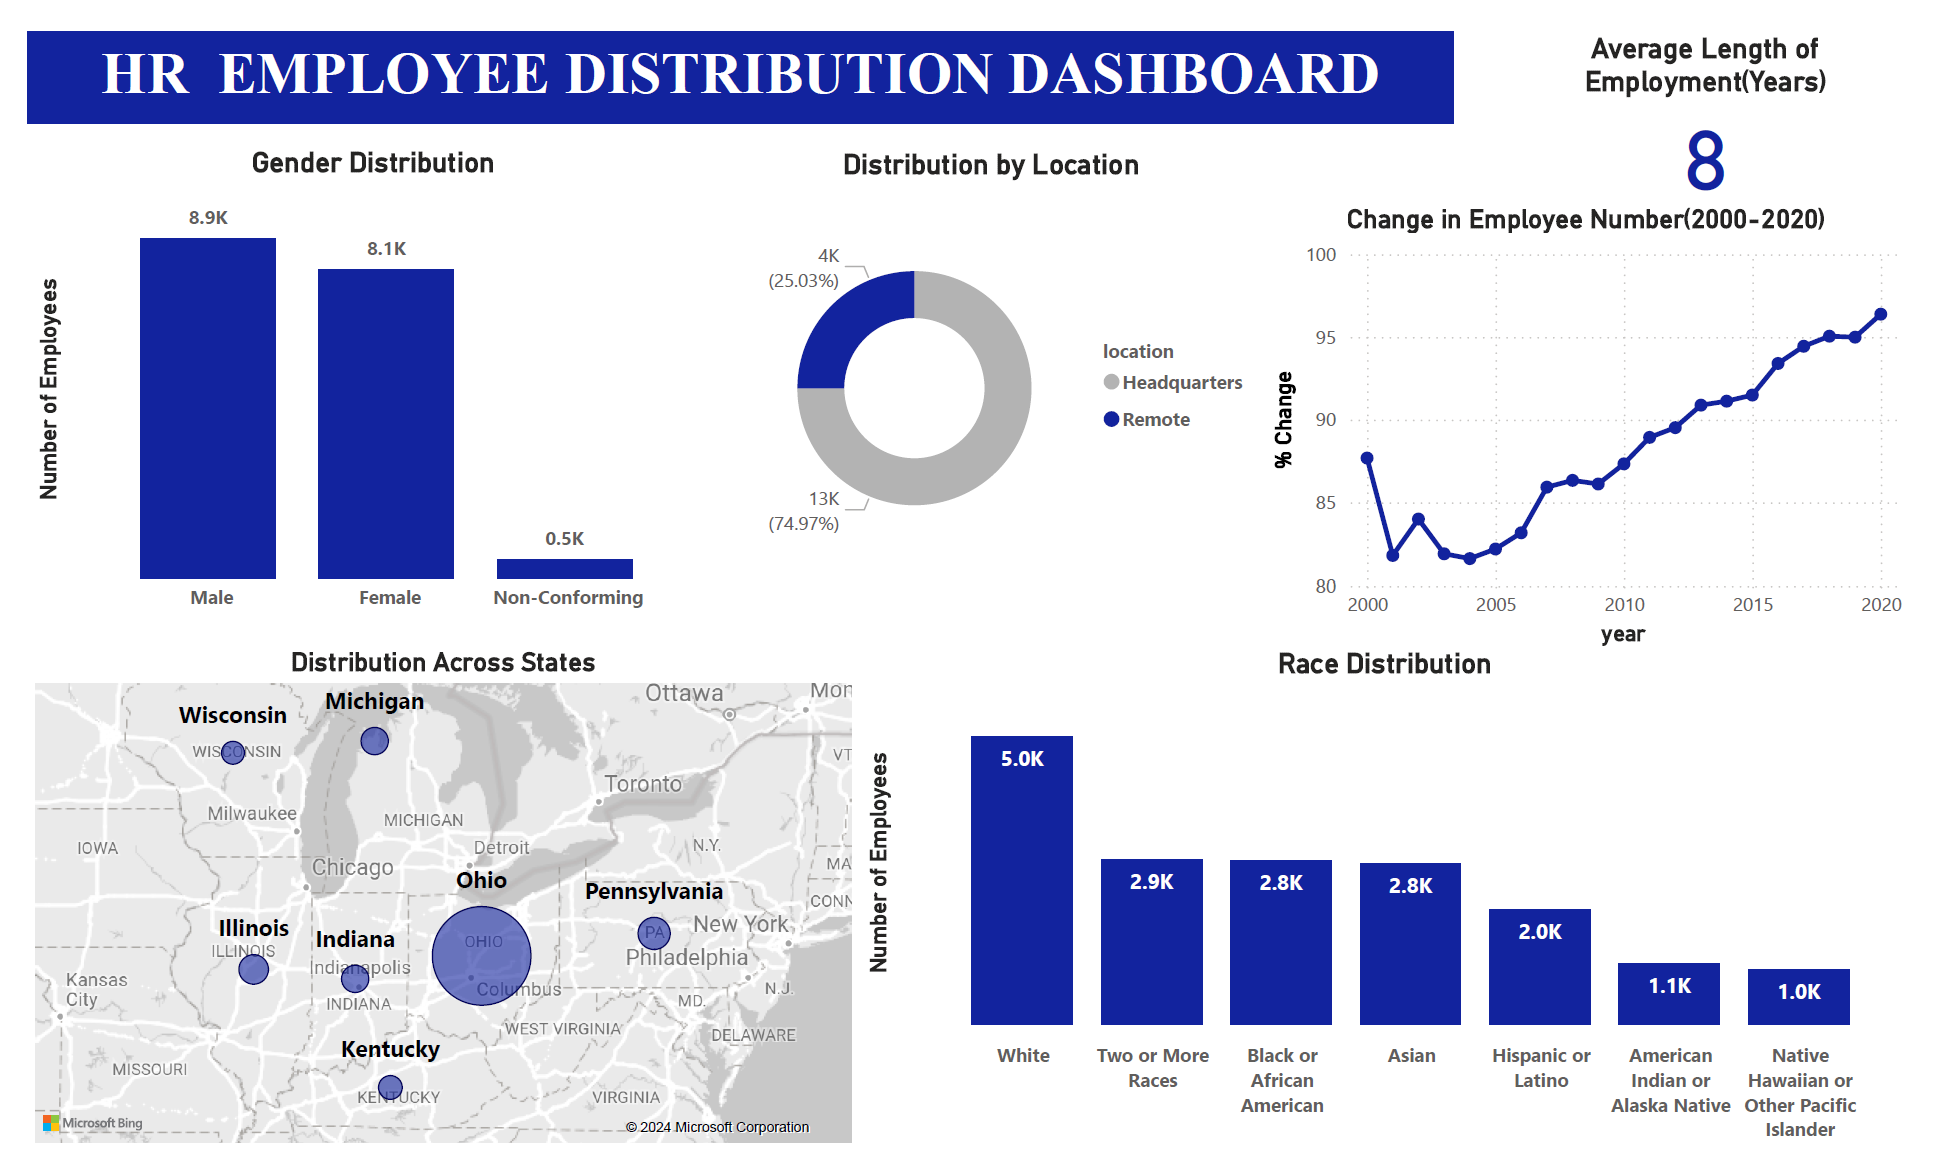

Layout of this report page (visuals, bound fields, positions):
{"tool":"powerbi","page":{"name":"Page 1","canvas":[1280,720],"ordinal":0},"visuals":[{"type":"textbox","box":[10.4,0,608.3,58.8],"z":0},{"type":"textbox","box":[487.8,169.5,403.7,150],"z":1000},{"type":"textbox","box":[0,0,915.9,58.5],"z":2000},{"type":"card","title":"Average Length of Employment(Years)","fields":{"Values":["Sum(avg_length_employment.avg_length_emp)"]},"box":[947.6,0,261,109.8],"z":3000},{"type":"clusteredColumnChart","title":"Gender Distribution","fields":{"Category":["gender.gender"],"Y":["Sum(gender.count)"]},"box":[0,73.2,443.9,307.3],"z":4000},{"type":"donutChart","title":"Distribution by Location","fields":{"Category":["location.location"],"Y":["Sum(location.count)"]},"box":[443.9,74.4,351.2,287.8],"z":5000},{"type":"lineChart","title":"Change in Employee Number(2000-2020)","fields":{"Category":["employee_count.year"],"Y":["Sum(employee_count.net_change_percent)"]},"box":[793.9,109.8,414.6,289],"z":6000},{"type":"map","title":"Distribution Across States","fields":{"Size":["Sum(state.count)"],"Category":["state.location_state"]},"box":[0,393.9,534.1,325.6],"z":7000},{"type":"clusteredColumnChart","title":"Race Distribution","fields":{"Category":["race.race"],"Y":["Sum(race.count)"]},"box":[534.1,393.9,676.8,325.6],"z":8000}]}

Visuals, with their boxes on the page's 1280x720 design canvas (x1, y1, x2, y2). These are canvas units, not pixel positions in the 1940x1160 screenshot, which may show the page scaled, cropped or inside an application window:
textbox: 10:0:619:59
textbox: 488:170:892:320
textbox: 0:0:916:58
"Average Length of Employment(Years)" card: 948:0:1209:110
"Gender Distribution" clusteredColumnChart: 0:73:444:380
"Distribution by Location" donutChart: 444:74:795:362
"Change in Employee Number(2000-2020)" lineChart: 794:110:1208:399
"Distribution Across States" map: 0:394:534:720
"Race Distribution" clusteredColumnChart: 534:394:1211:720
